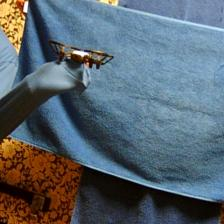drone: (48, 39, 114, 73)
